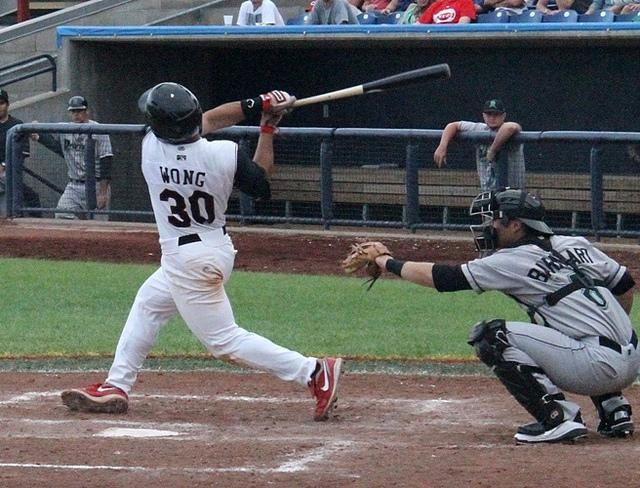person: (55, 75, 352, 425), (347, 182, 640, 447), (428, 98, 538, 209), (28, 94, 118, 225)
